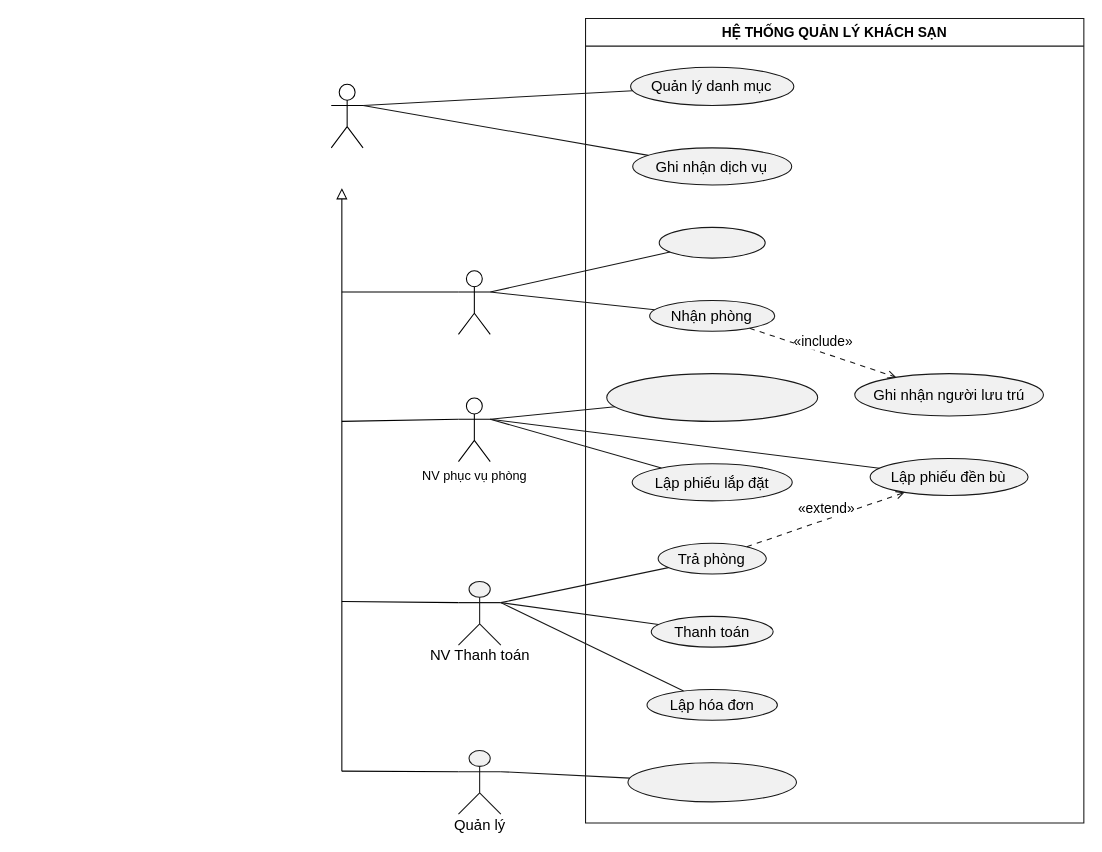
This 1102x852 diagram has some shape labels left out. Each missing label, with the centre of its shape:
"Nhân viên" goes at point (346, 115).
"Nhân viên lễ tân" goes at point (473, 302).
"Quản lý phòng - tiện nghi" goes at point (712, 397).
"Tra cứu / thống kê" goes at point (711, 782).
"Đặt phòng" goes at point (711, 242).
